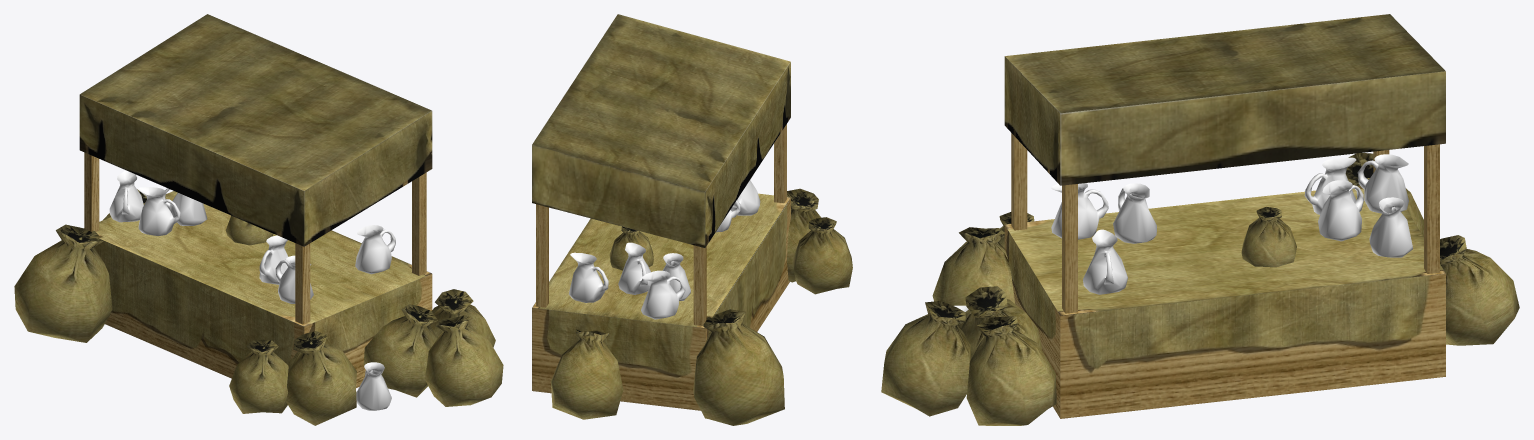
Rendered from store03_2.fbx.
The picture shows the model from 3 angles, left to right: view 1: azimuth 30°, elevation 25°; view 2: azimuth 150°, elevation 25°; view 3: azimuth 270°, elevation 25°; orthographic projection. The views are drawn at different scales.
Parts seen in each view (by area): view 1: stand_26, bag_217, bag_219, bag_218, bag_224, bag_220, bag_223, pot_92, pot_93, pot_91, pot_94, pot_89 (+3 smaller); view 2: stand_26, bag_217, bag_221, bag_220, bag_218, pot_94, pot_95, pot_90, bag_222, pot_93, pot_96; view 3: stand_26, bag_219, bag_223, bag_221, bag_218, bag_222, bag_224, pot_90, pot_89, pot_94, pot_92, pot_95 (+3 smaller).
Boxes of the visible parts, bbox=[...] form: stand_26: bbox=[79, 14, 432, 387]; bag_217: bbox=[14, 224, 112, 342]; bag_219: bbox=[425, 315, 503, 406]; bag_218: bbox=[286, 331, 356, 425]; bag_224: bbox=[363, 304, 437, 397]; bag_220: bbox=[229, 339, 288, 413]; bag_223: bbox=[430, 289, 495, 347]; pot_92: bbox=[355, 225, 395, 274]; pot_93: bbox=[138, 187, 180, 235]; pot_91: bbox=[356, 362, 391, 410]; pot_94: bbox=[109, 170, 143, 222]; pot_89: bbox=[259, 235, 288, 284]; stand_26: bbox=[532, 14, 790, 410]; bag_217: bbox=[693, 309, 784, 425]; bag_221: bbox=[550, 329, 623, 419]; bag_220: bbox=[792, 217, 852, 294]; bag_218: bbox=[787, 188, 820, 282]; pot_94: bbox=[641, 270, 685, 319]; pot_95: bbox=[569, 252, 608, 302]; pot_90: bbox=[618, 242, 651, 294]; bag_222: bbox=[609, 226, 653, 270]; pot_93: bbox=[663, 253, 690, 301]; pot_96: bbox=[730, 180, 760, 215]; stand_26: bbox=[1004, 14, 1445, 418]; bag_219: bbox=[881, 301, 970, 416]; bag_223: bbox=[966, 316, 1056, 425]; bag_221: bbox=[1440, 235, 1519, 345]; bag_218: bbox=[932, 227, 1015, 305]; bag_222: bbox=[1241, 207, 1296, 267]; bag_224: bbox=[959, 286, 1042, 356]; pot_90: bbox=[1318, 180, 1363, 241]; pot_89: bbox=[1113, 183, 1156, 243]; pot_94: bbox=[1357, 154, 1408, 213]; pot_92: bbox=[1083, 229, 1127, 294]; pot_95: bbox=[1369, 197, 1412, 257].
Bounding box in the file's own units: 75.84 × 58.02 × 105.
